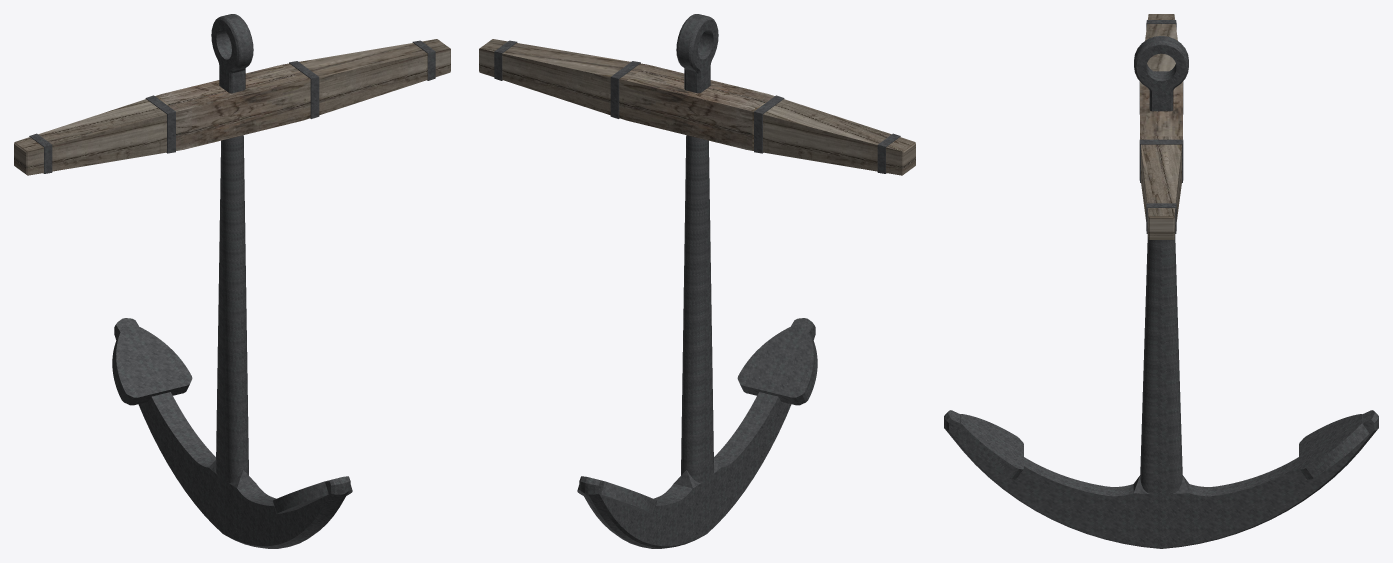
Rendered from anchor.dae.
The picture shows the model from 3 angles, left to right: view 1: azimuth 30°, elevation 25°; view 2: azimuth 150°, elevation 25°; view 3: azimuth 270°, elevation 25°; orthographic projection.
Parts seen in each view (by area): view 1: SketchUp (×9); view 2: SketchUp (×9); view 3: SketchUp (×6).
Boxes of the visible parts, <box> form: SketchUp (×9): <box>14,14,450,548</box>; SketchUp (×9): <box>479,14,915,548</box>; SketchUp (×6): <box>944,24,1378,548</box>.
Bounding box in the file's own units: 121 × 109 × 141.
Materials: 3 (2 with a texture image).
